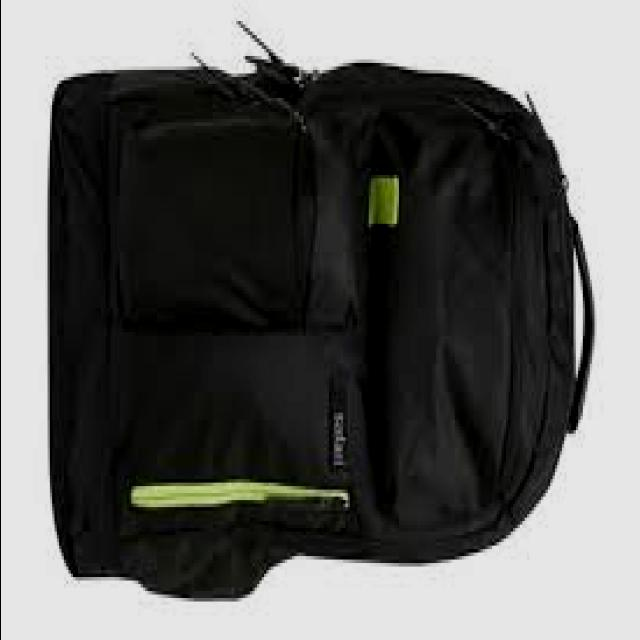backpack: (50, 23, 597, 603)
